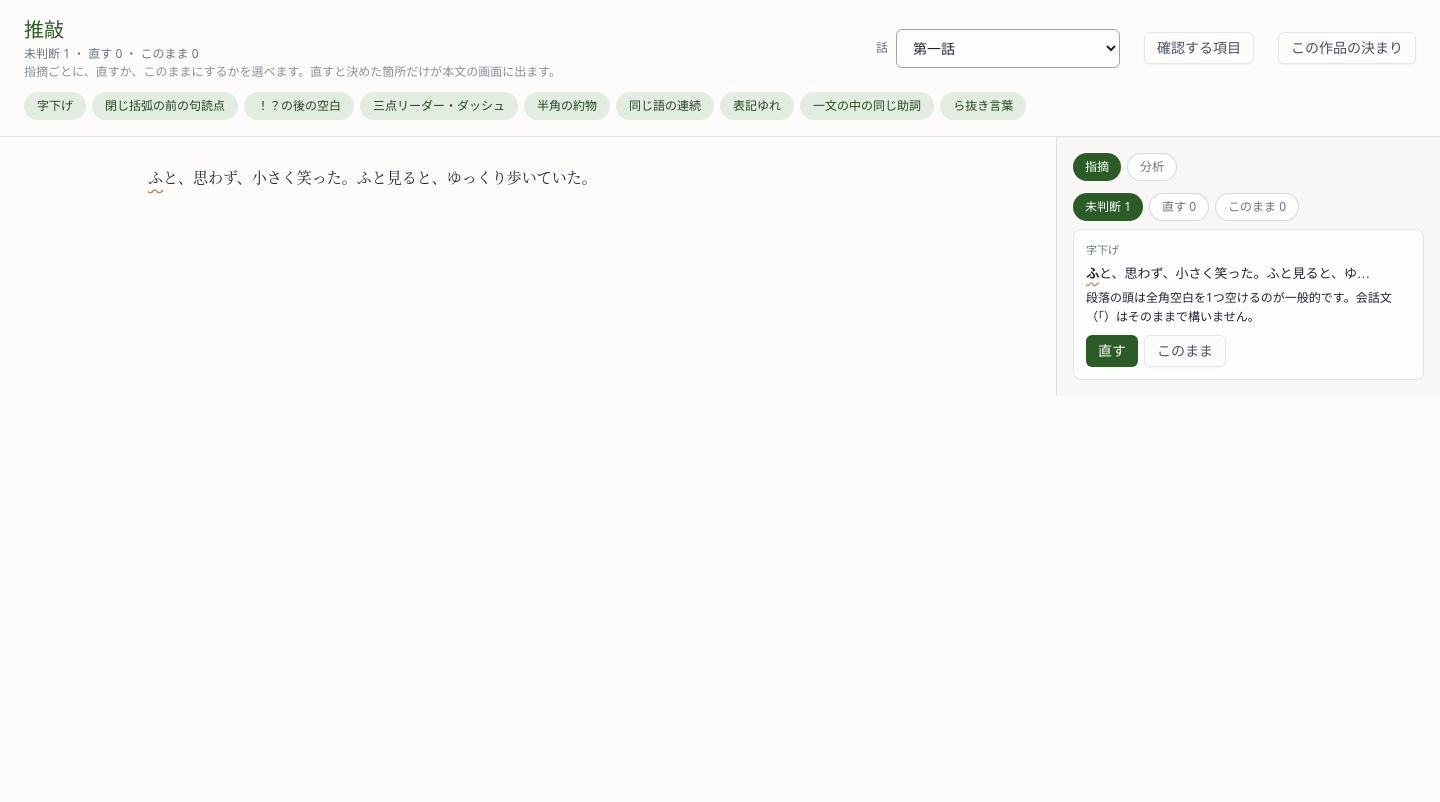
Test case: ProofreadView（推敲画面・COT-40） › よく使う言葉は「この話」で始まり、「作品全体」に切り替えられる。作品全体でこの話に無い語を選ぶと補足が替わる
Click the tab "分析" at (1152, 167), box [1127, 153, 1177, 181]
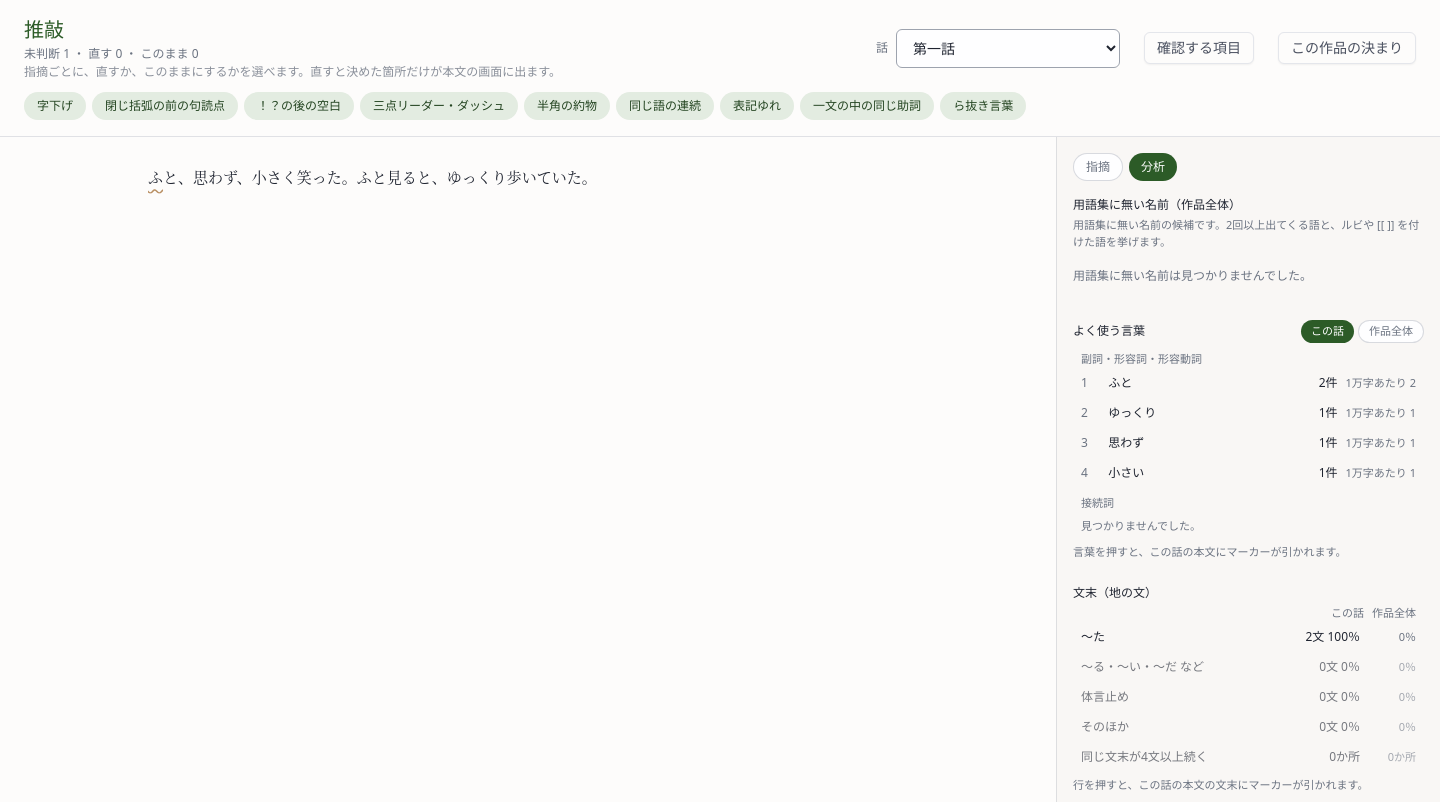
Expected: the button "とても" is not shown
Now the button "2 ゆっくり 1件 1万字あたり 1" is shown, box [1073, 399, 1424, 427]
Click the button "作品全体" at (1391, 331), box [1358, 320, 1424, 342]
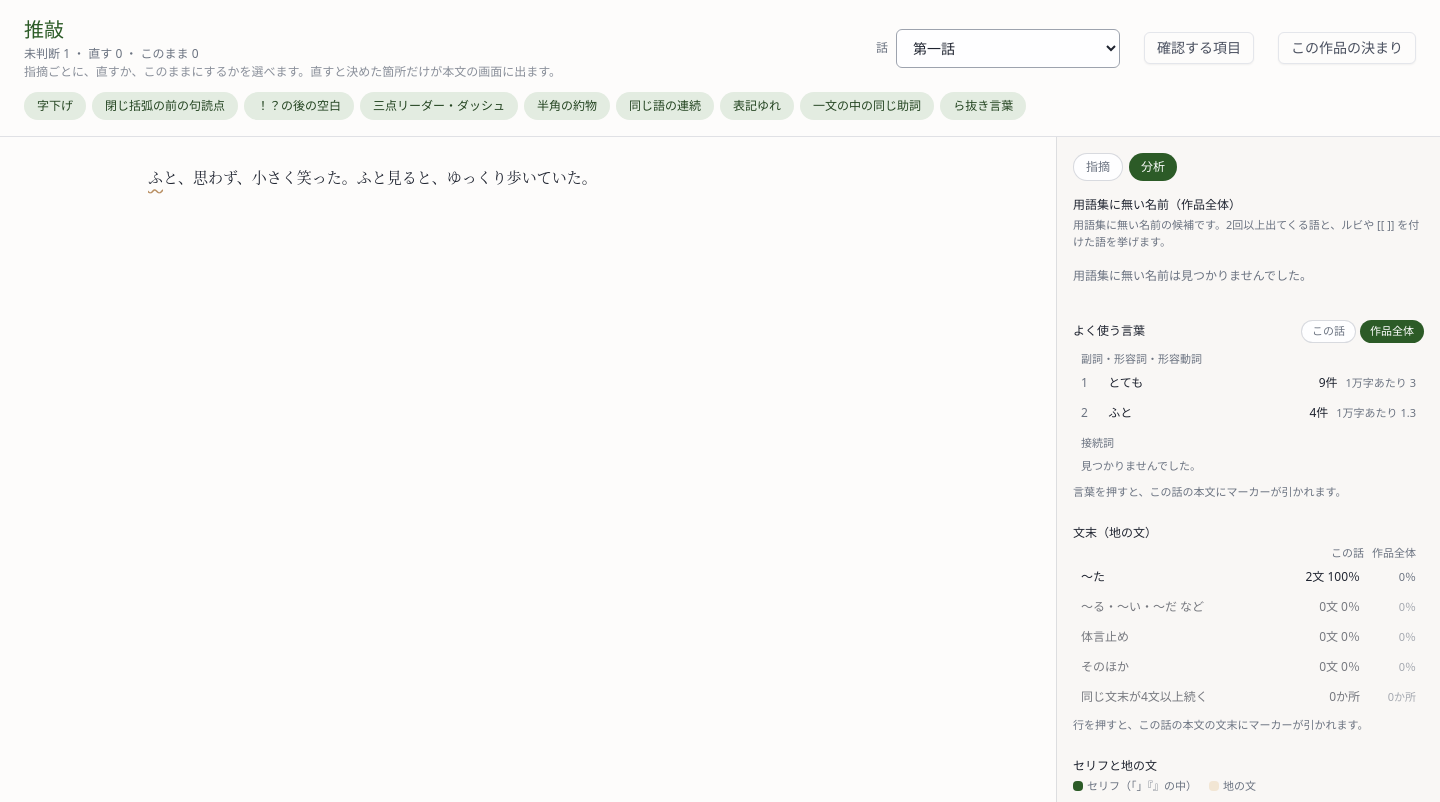
Now the button "作品全体" is pressed, box [1360, 320, 1424, 342]
Click the button "1 とても 9件 1万字あたり 3" at (1126, 382), box [1073, 369, 1424, 397]
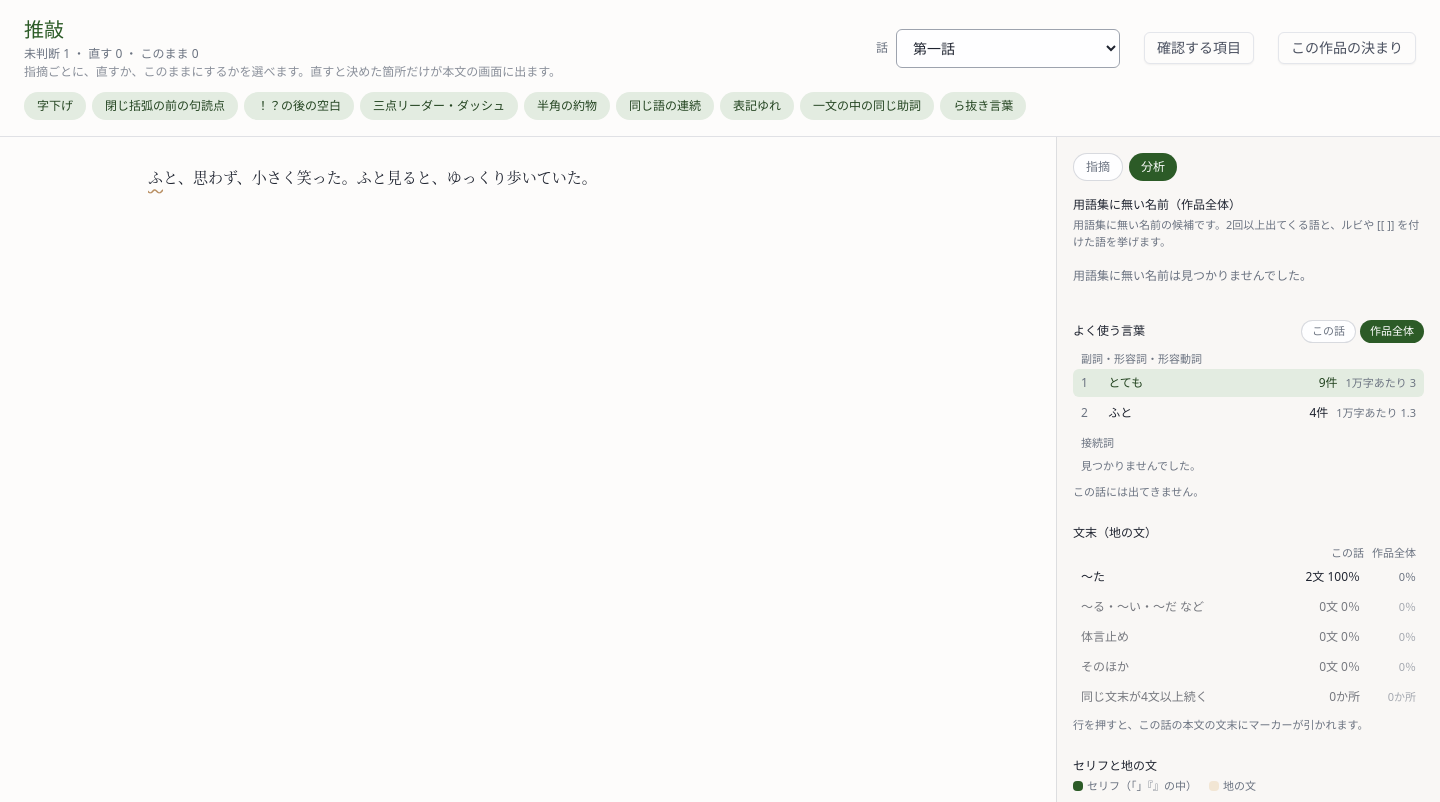
Now the text "この話には出てきません。" is shown, box [1073, 484, 1204, 499]
Note: この話の一覧に無い語の選択は、切り替えると外れる
Click the button "この話" at (1328, 331), box [1301, 320, 1356, 342]
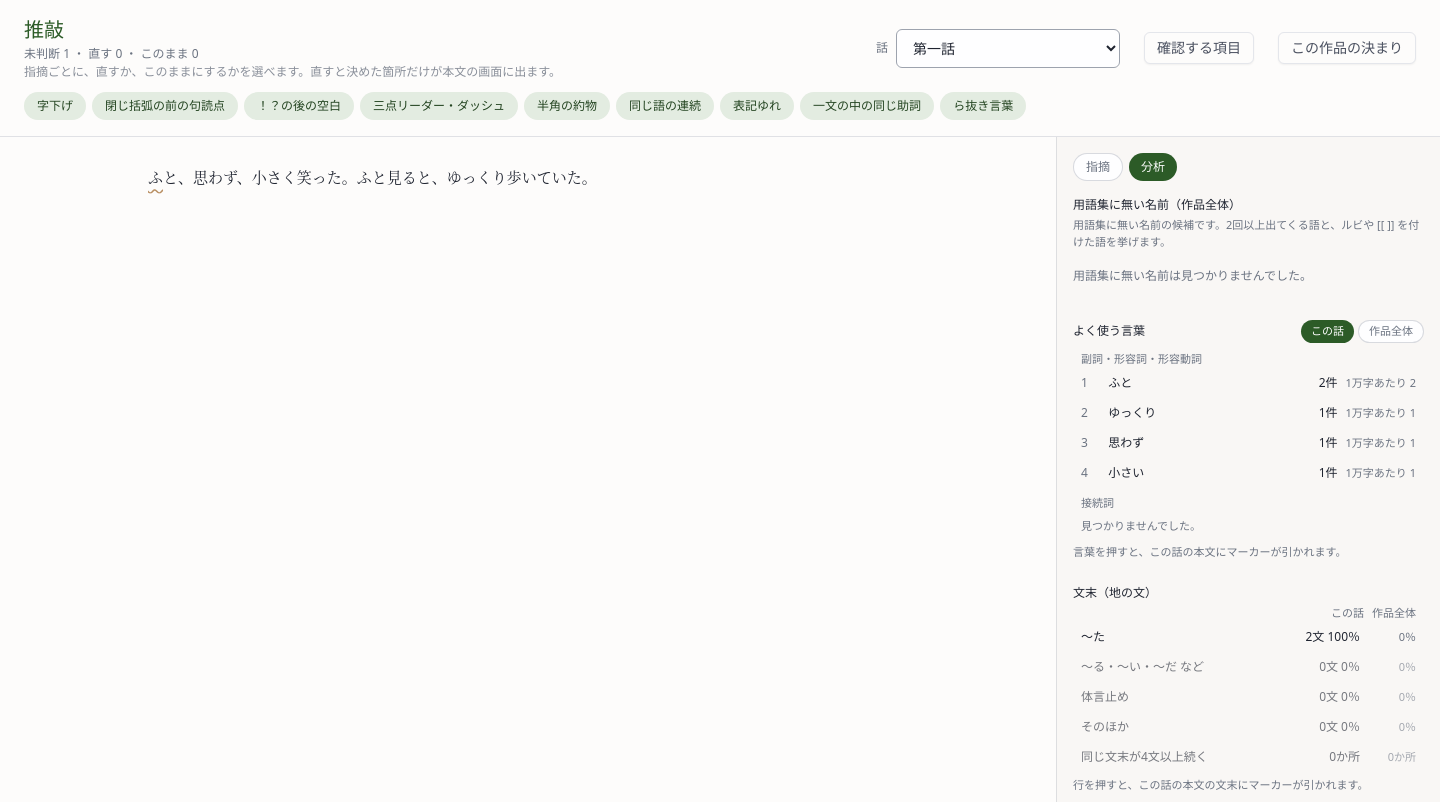
Now the text "この話には出てきません。" is gone
